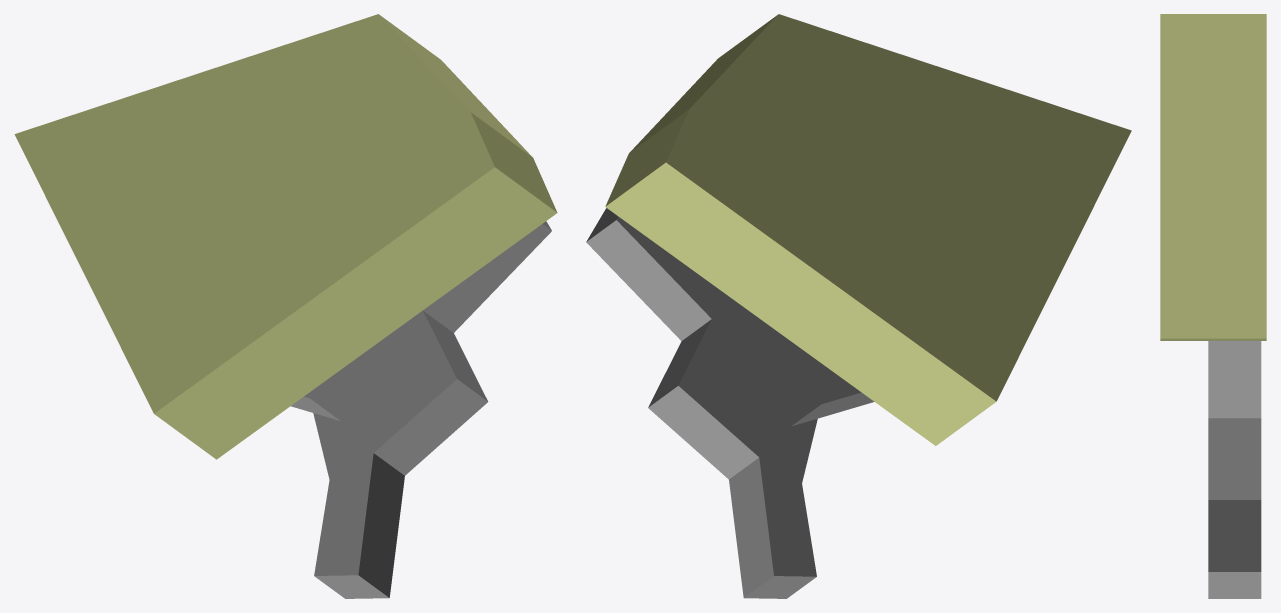
3 renders of one model, left to right at view 1: azimuth 30°, elevation 25°; view 2: azimuth 150°, elevation 25°; view 3: azimuth 270°, elevation 25°, orthographic. The views are drawn at different scales.
Visible parts, largest first — view 1: 0_1_0_2_2_1_1_1_1; view 2: 0_1_0_2_2_1_1_1_1; view 3: 0_1_0_2_2_1_1_1_1.
Part boxes in pixels (left/top/right/bottom): 0_1_0_2_2_1_1_1_1: left=14, top=14, right=557, bottom=598; 0_1_0_2_2_1_1_1_1: left=586, top=14, right=1131, bottom=598; 0_1_0_2_2_1_1_1_1: left=1160, top=14, right=1266, bottom=598.
Size of the model in its own units: 27.83 by 29.24 by 6.
